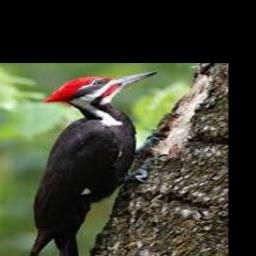Woodpecker: (30, 70, 160, 256)
